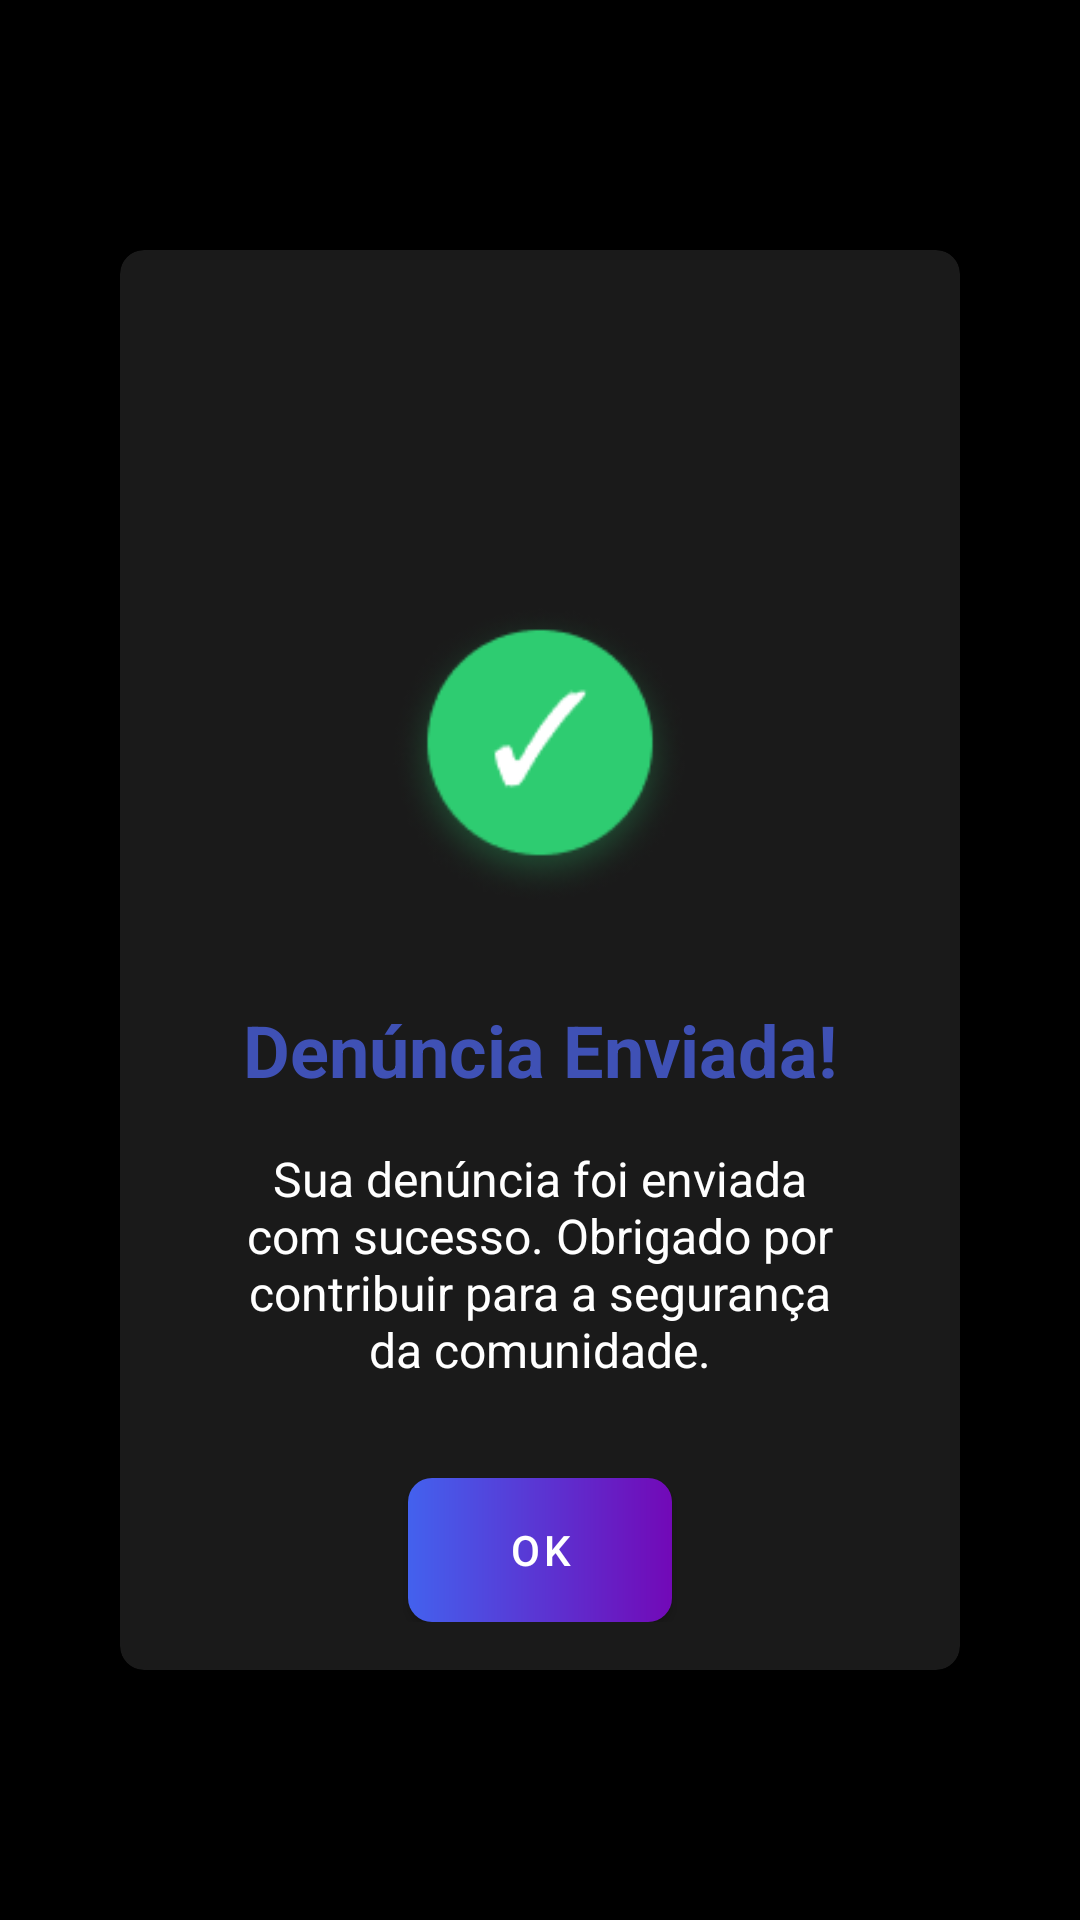

Icon bounding boxes for this 1080 x 1920 phone screenshot, format (x1, y1, x2, y2):
Ícone de sucesso: (426, 629, 654, 868)
